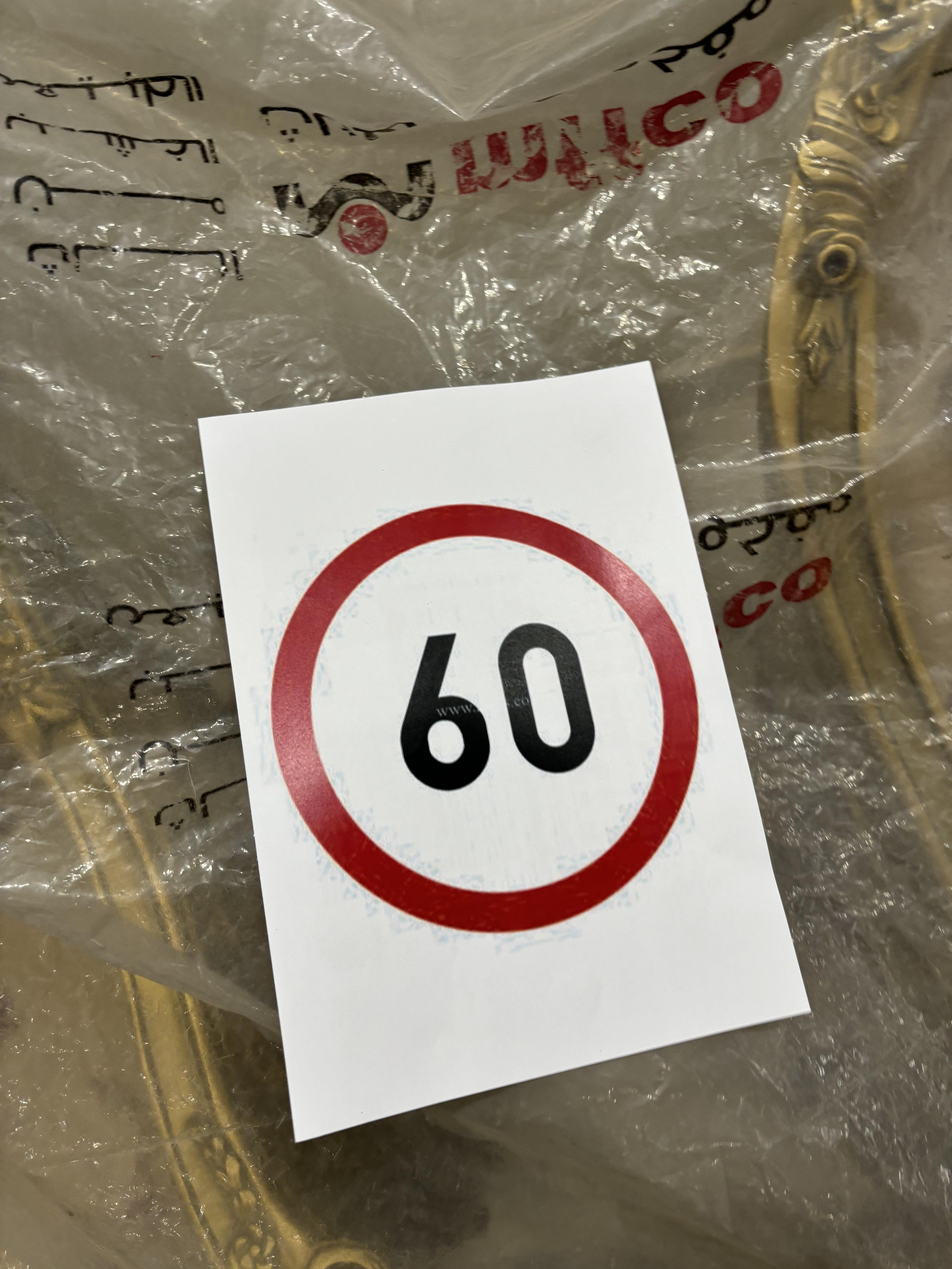60-Speed: (274, 494, 705, 945)
